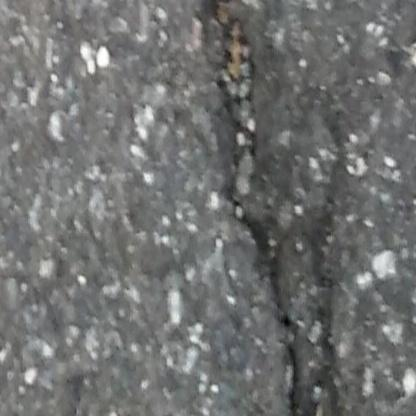Cracks: (206, 0, 350, 416)
